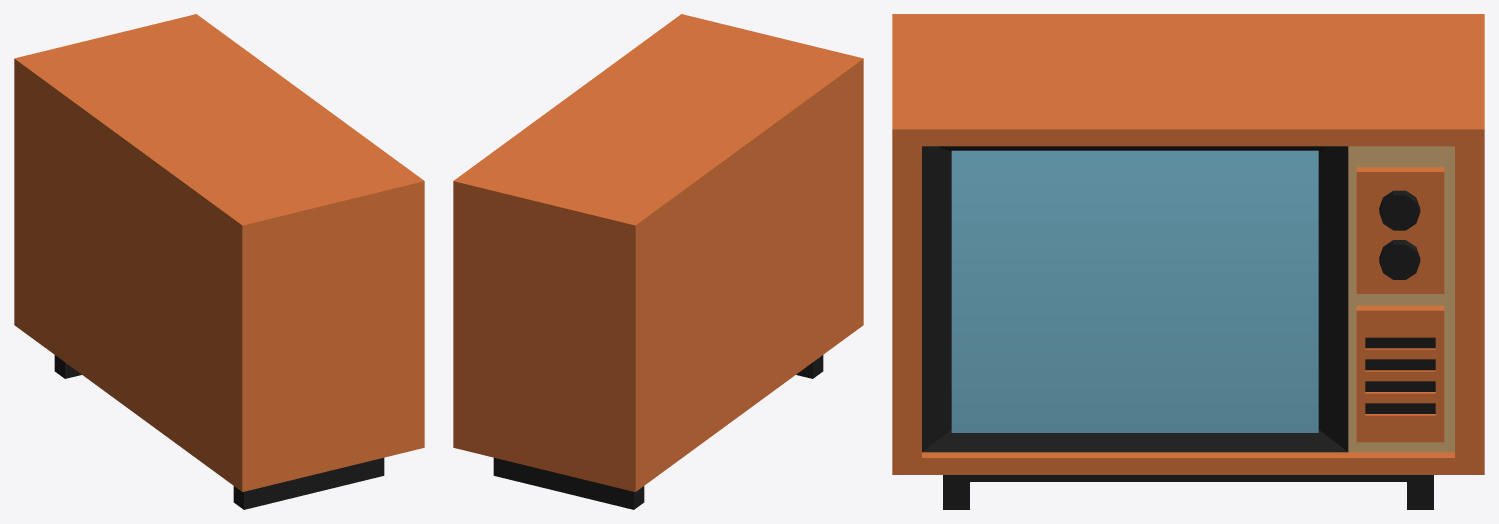
Rendered from Television.fbx.
The picture shows the model from 3 angles, left to right: view 1: azimuth 30°, elevation 25°; view 2: azimuth 150°, elevation 25°; view 3: azimuth 270°, elevation 25°; orthographic projection. The views are drawn at different scales.
Visible parts, largest first — view 1: Cube, Cube.001; view 2: Cube, Cube.001; view 3: Cube, Cube.002, Cube.004, Cube.003, Cube.001, Cylinder.001, Cylinder.002.
Part boxes in pixels (x1,y1,x2,y2): Cube: (14, 14, 424, 491); Cube.001: (54, 355, 384, 509); Cube: (453, 14, 863, 491); Cube.001: (493, 355, 823, 509); Cube: (892, 14, 1484, 474); Cube.002: (951, 150, 1318, 432); Cube.004: (1356, 305, 1444, 442); Cube.003: (1356, 167, 1444, 293); Cube.001: (943, 475, 1433, 509); Cylinder.001: (1379, 190, 1420, 230); Cylinder.002: (1379, 240, 1420, 279).
Size of the model in its own units: 206 by 318 by 434.
